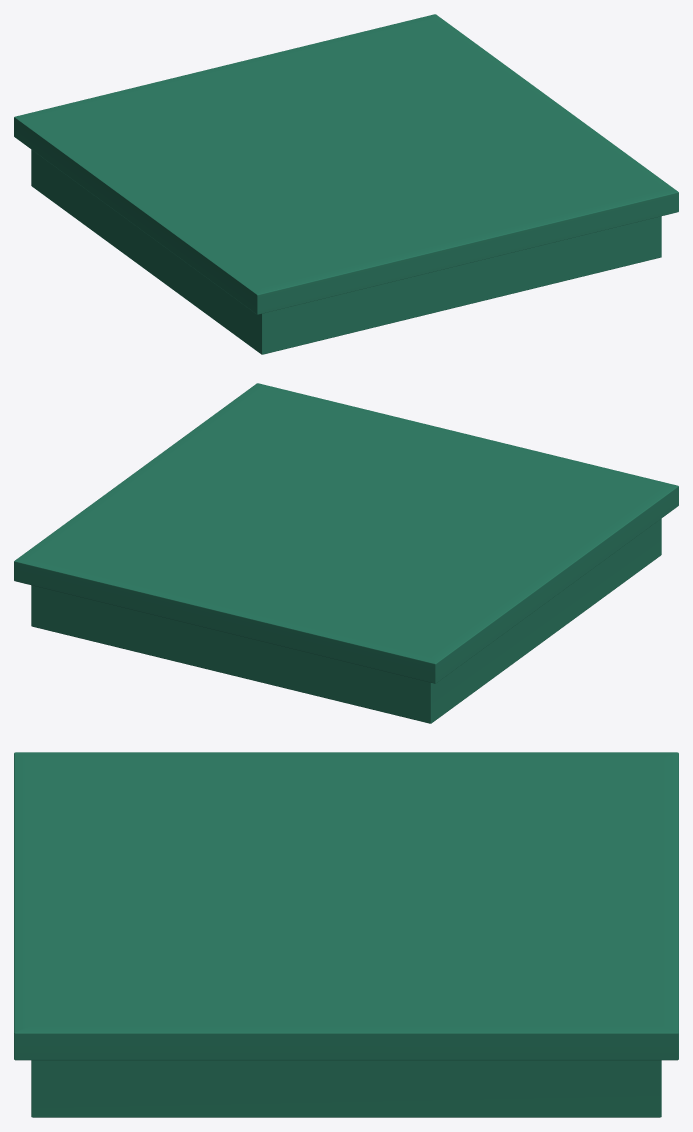
The model's file is Lighting3.fbx.
The picture shows the model from 3 angles, top to bottom: view 1: azimuth 30°, elevation 25°; view 2: azimuth 150°, elevation 25°; view 3: azimuth 270°, elevation 25°; orthographic projection. The views are drawn at different scales.
Parts seen in each view (by area): view 1: Lighting03_High; view 2: Lighting03_High; view 3: Lighting03_High.
Boxes of the visible parts, x1,y1,x2,y2 form: Lighting03_High: (14,14,678,354); Lighting03_High: (14,383,678,723); Lighting03_High: (14,752,678,1117).
Bounding box in the file's own units: 2.32 × 0.355 × 2.32.
